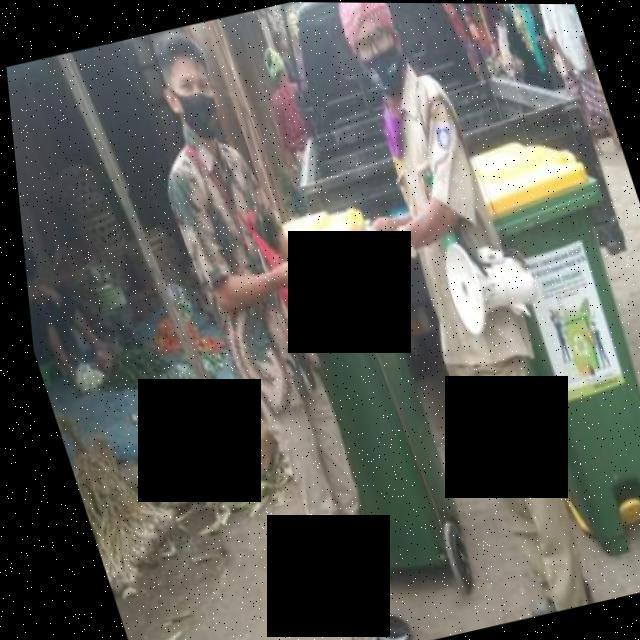bin: (243, 192, 478, 613), (435, 114, 640, 568)
